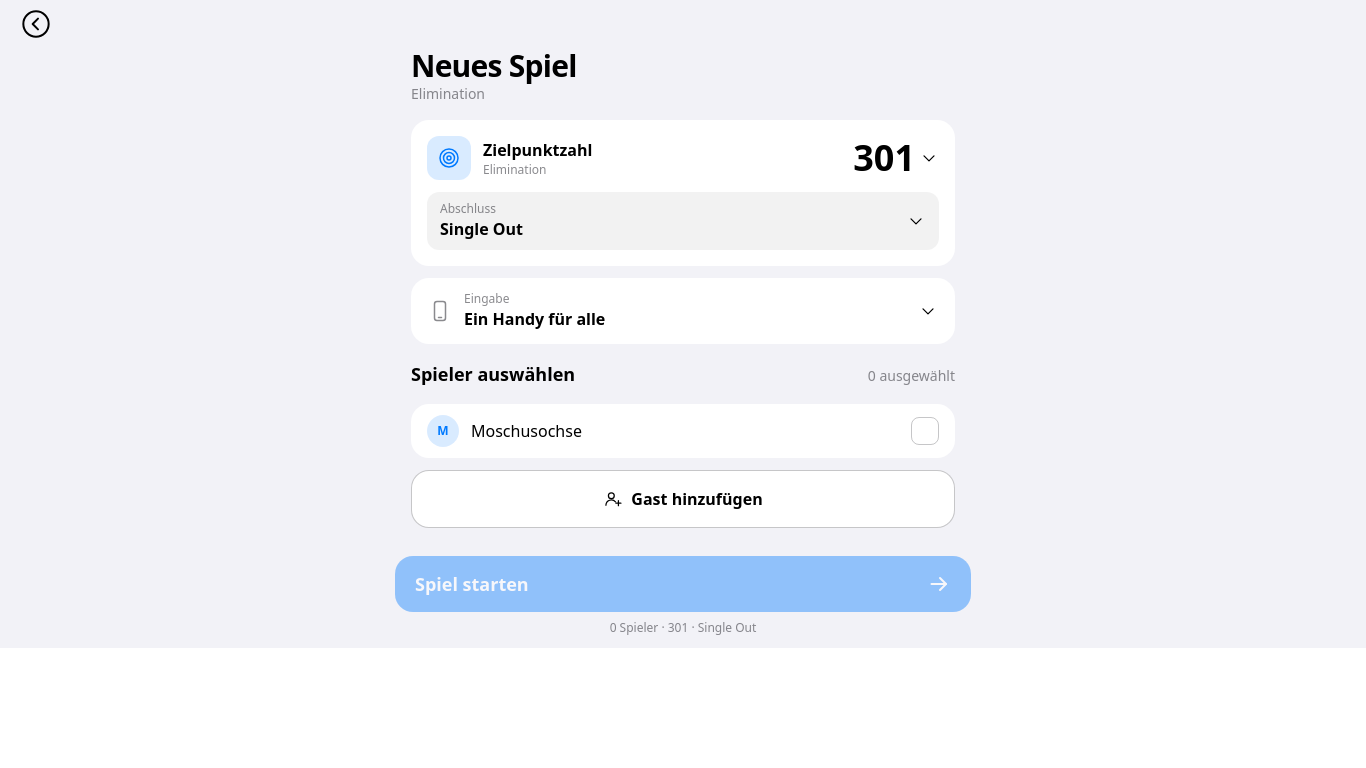
it: setups per mode (M7) › elimination: out rule and target as in legacy (SingleOut, 301), choosable
Click the button "301" at (896, 158), box [853,138,939,178]
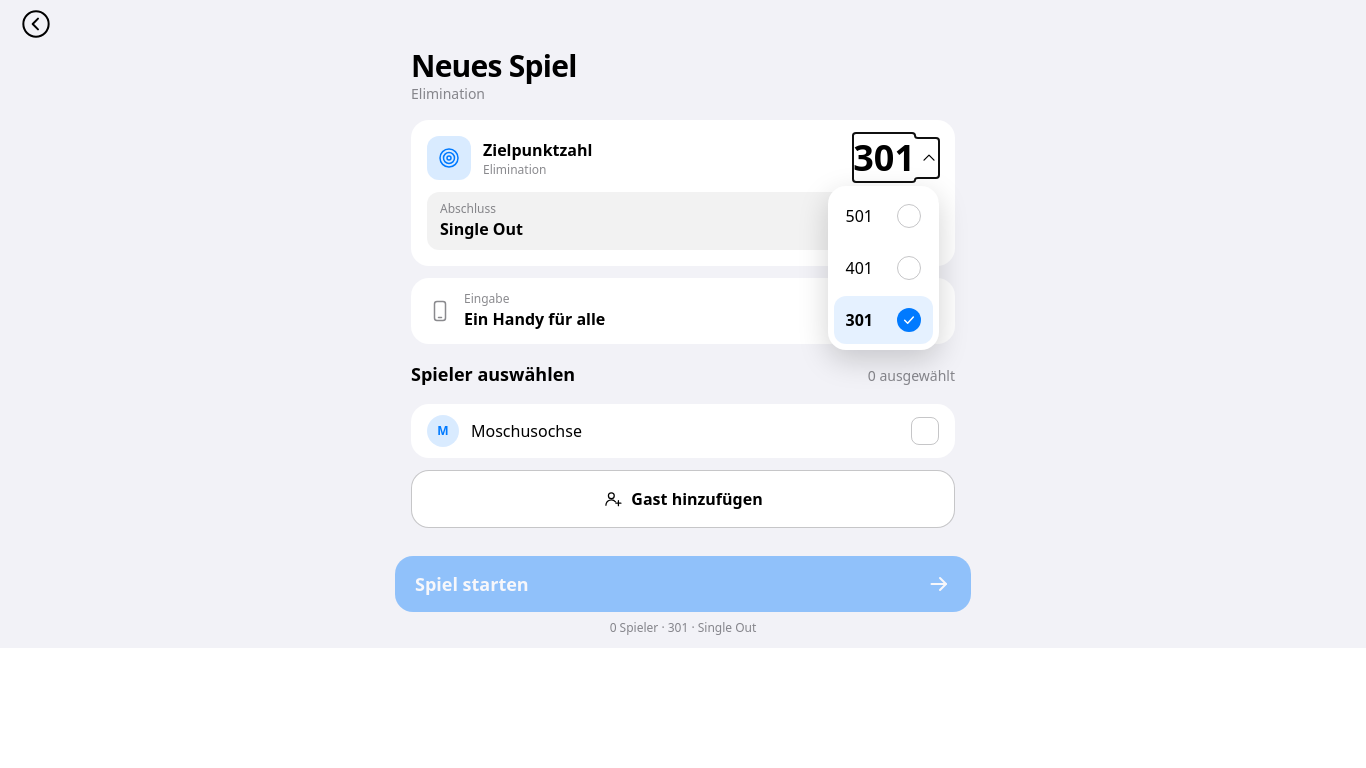
Click the button "501" at (883, 216), box [834,192,933,240]
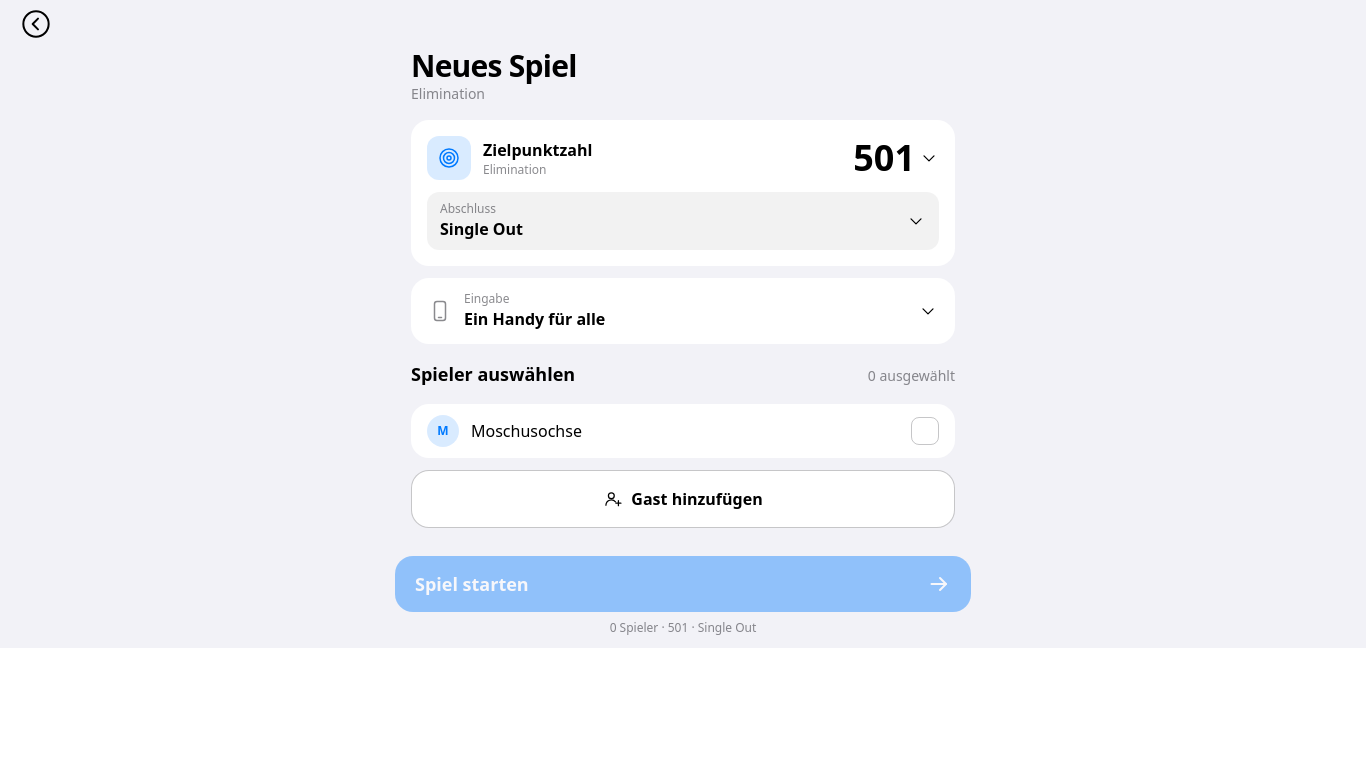
Click the button "Abschluss Single Out" at (468, 208), box [427,192,939,250]
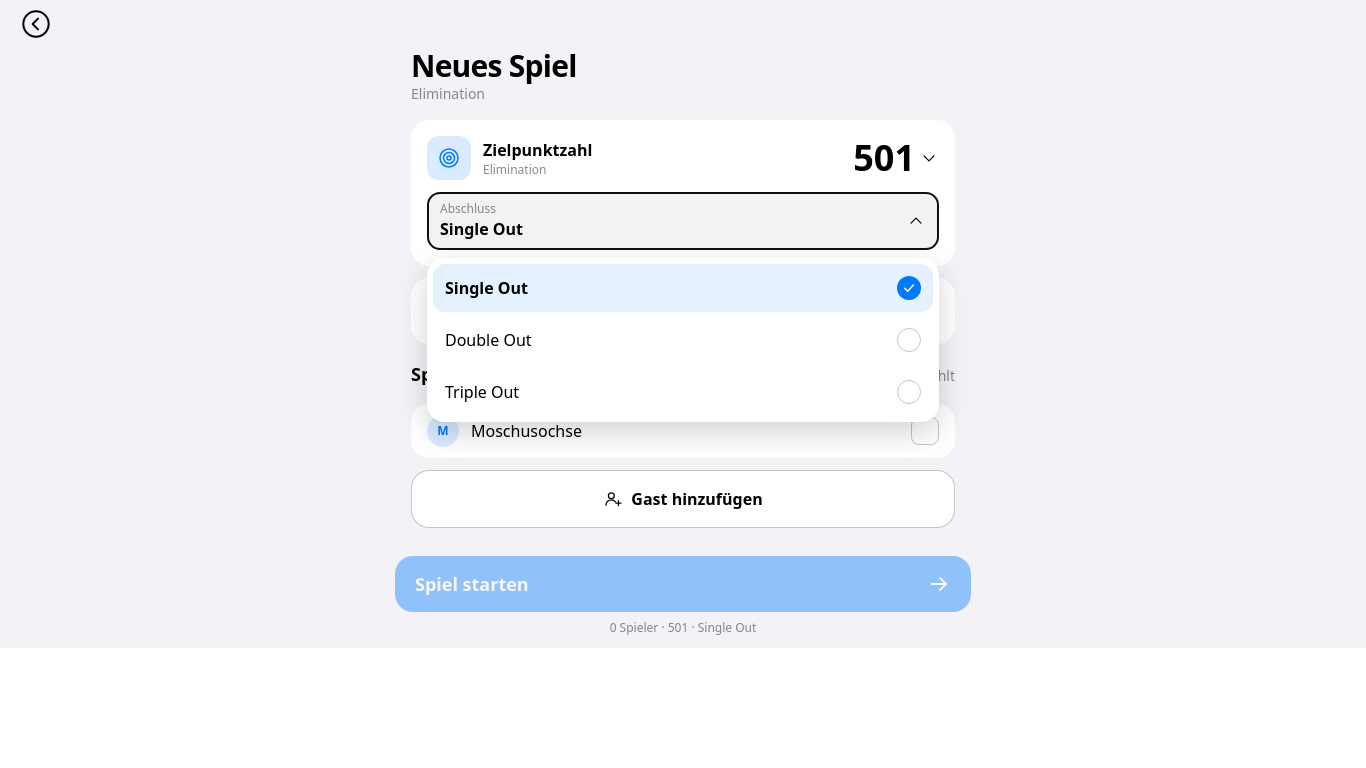
Click the button "Double Out" at (488, 340), box [433,316,933,364]
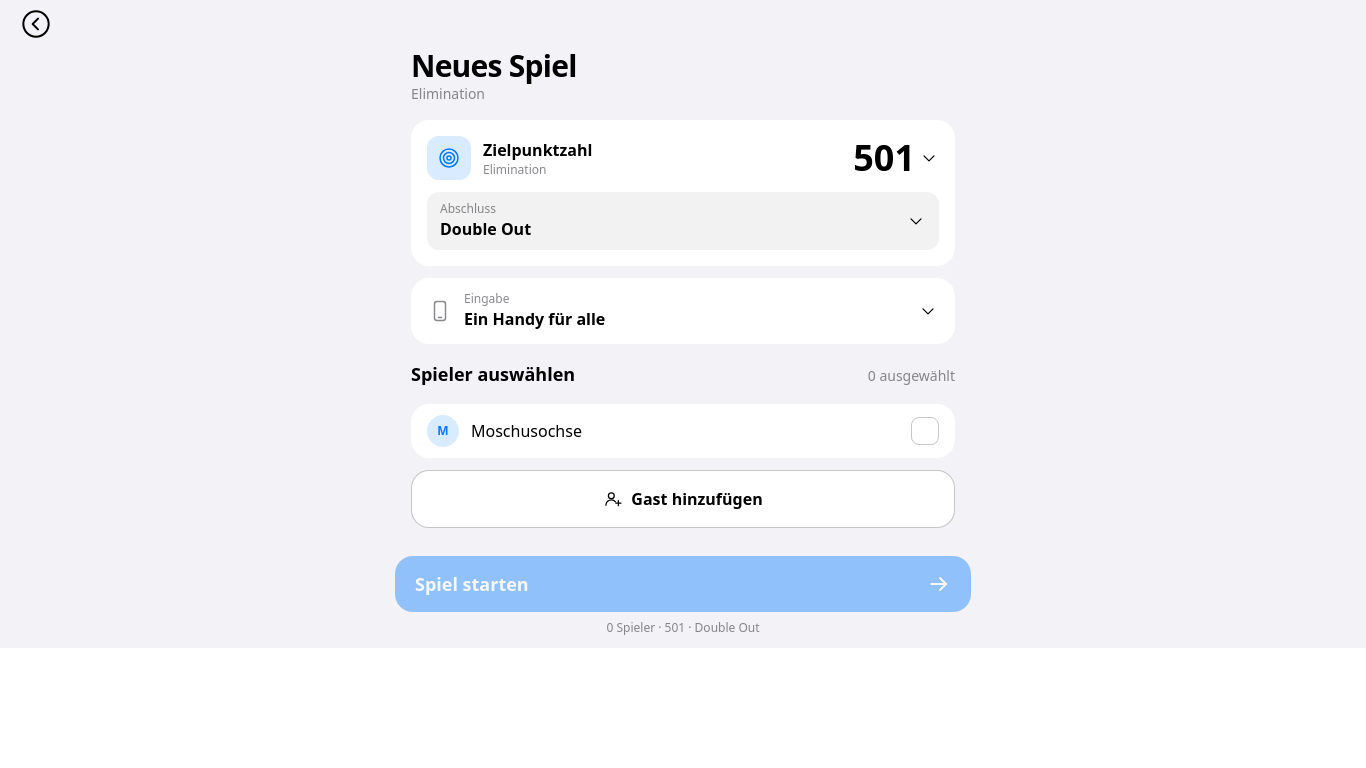
Check: the button "Spiel starten" is disabled, box [395,556,971,612]
Click the button "M Moschusochse" at (443, 431), box [427,404,939,458]
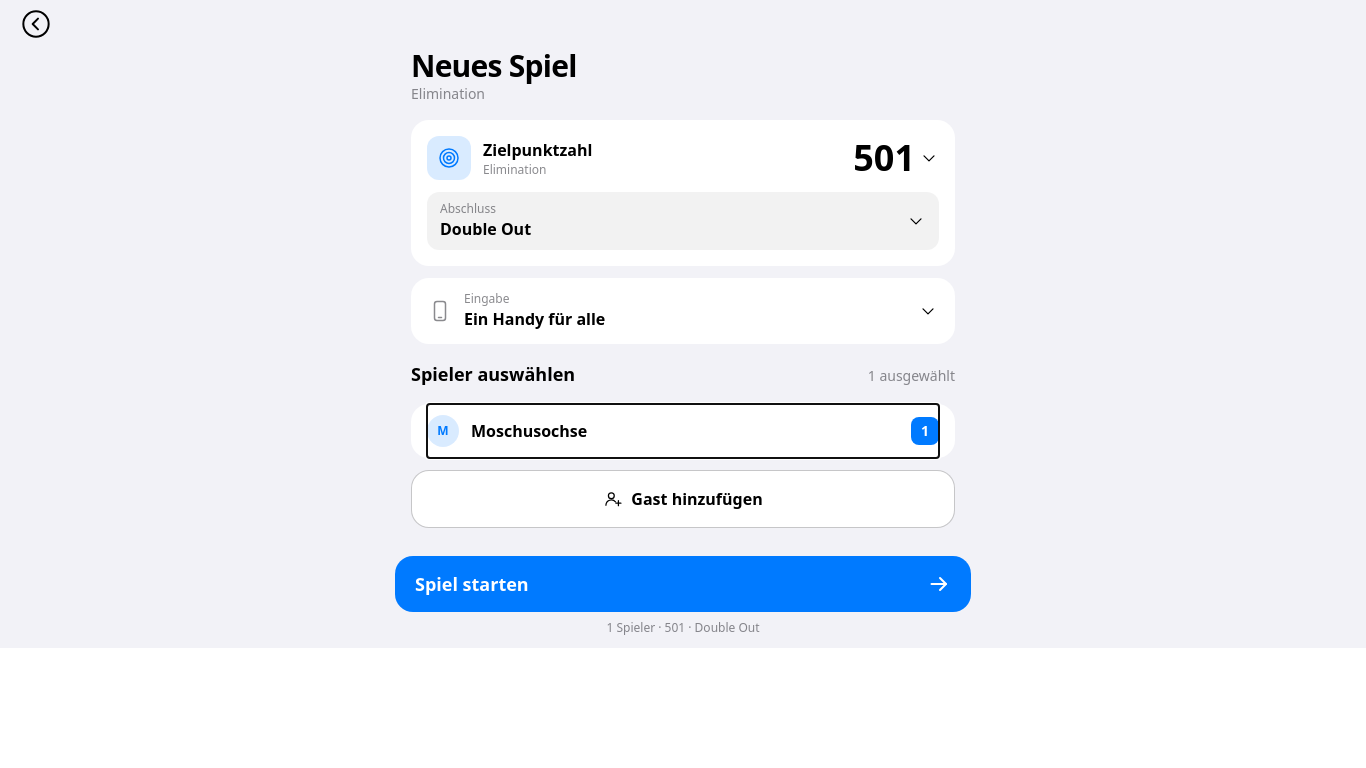
Check: the button "Spiel starten" is enabled, box [395,556,971,612]
